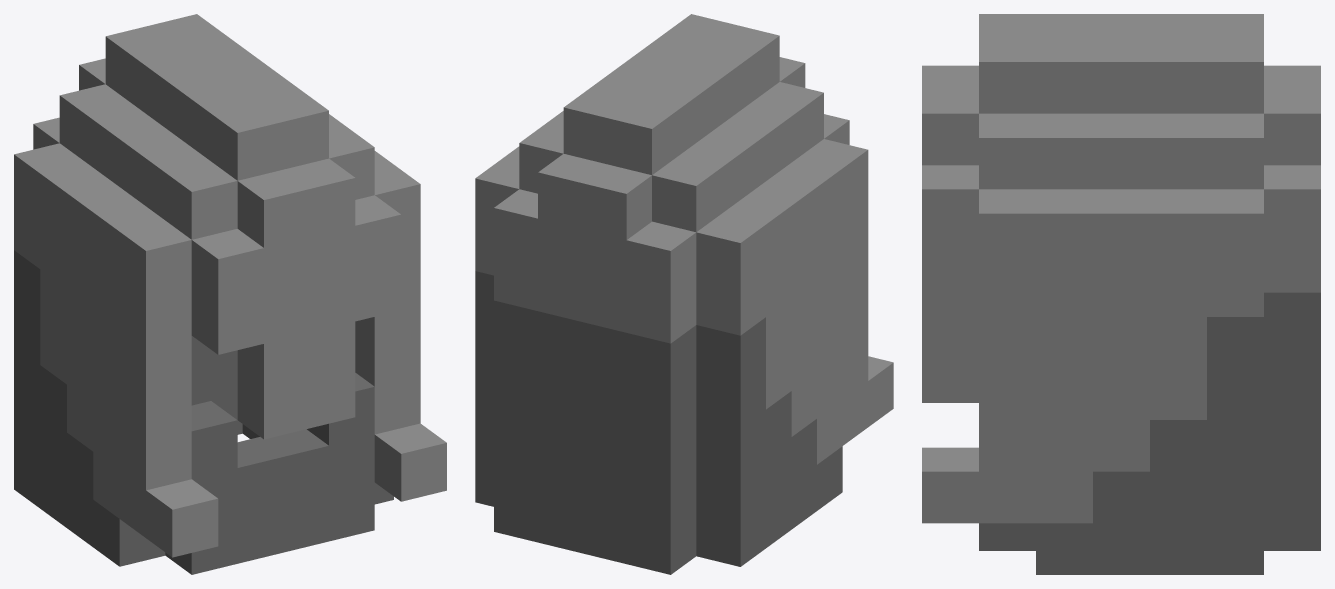
File: characters_export_red-234-helm_hvy_2b_du.obj
The picture shows the model from 3 angles, left to right: view 1: azimuth 30°, elevation 25°; view 2: azimuth 150°, elevation 25°; view 3: azimuth 270°, elevation 25°; orthographic projection. The views are drawn at different scales.
Parts seen in each view (by area): view 1: helm_hvy_2b_du; view 2: helm_hvy_2b_du; view 3: helm_hvy_2b_du.
Part boxes in pixels (x1=…): helm_hvy_2b_du: x1=14, y1=14, x2=446, y2=574; helm_hvy_2b_du: x1=475, y1=14, x2=893, y2=574; helm_hvy_2b_du: x1=922, y1=14, x2=1320, y2=574.
Size of the model in its own units: 0.6 by 0.9 by 0.7.
Materials: 1 (1 with a texture image).
